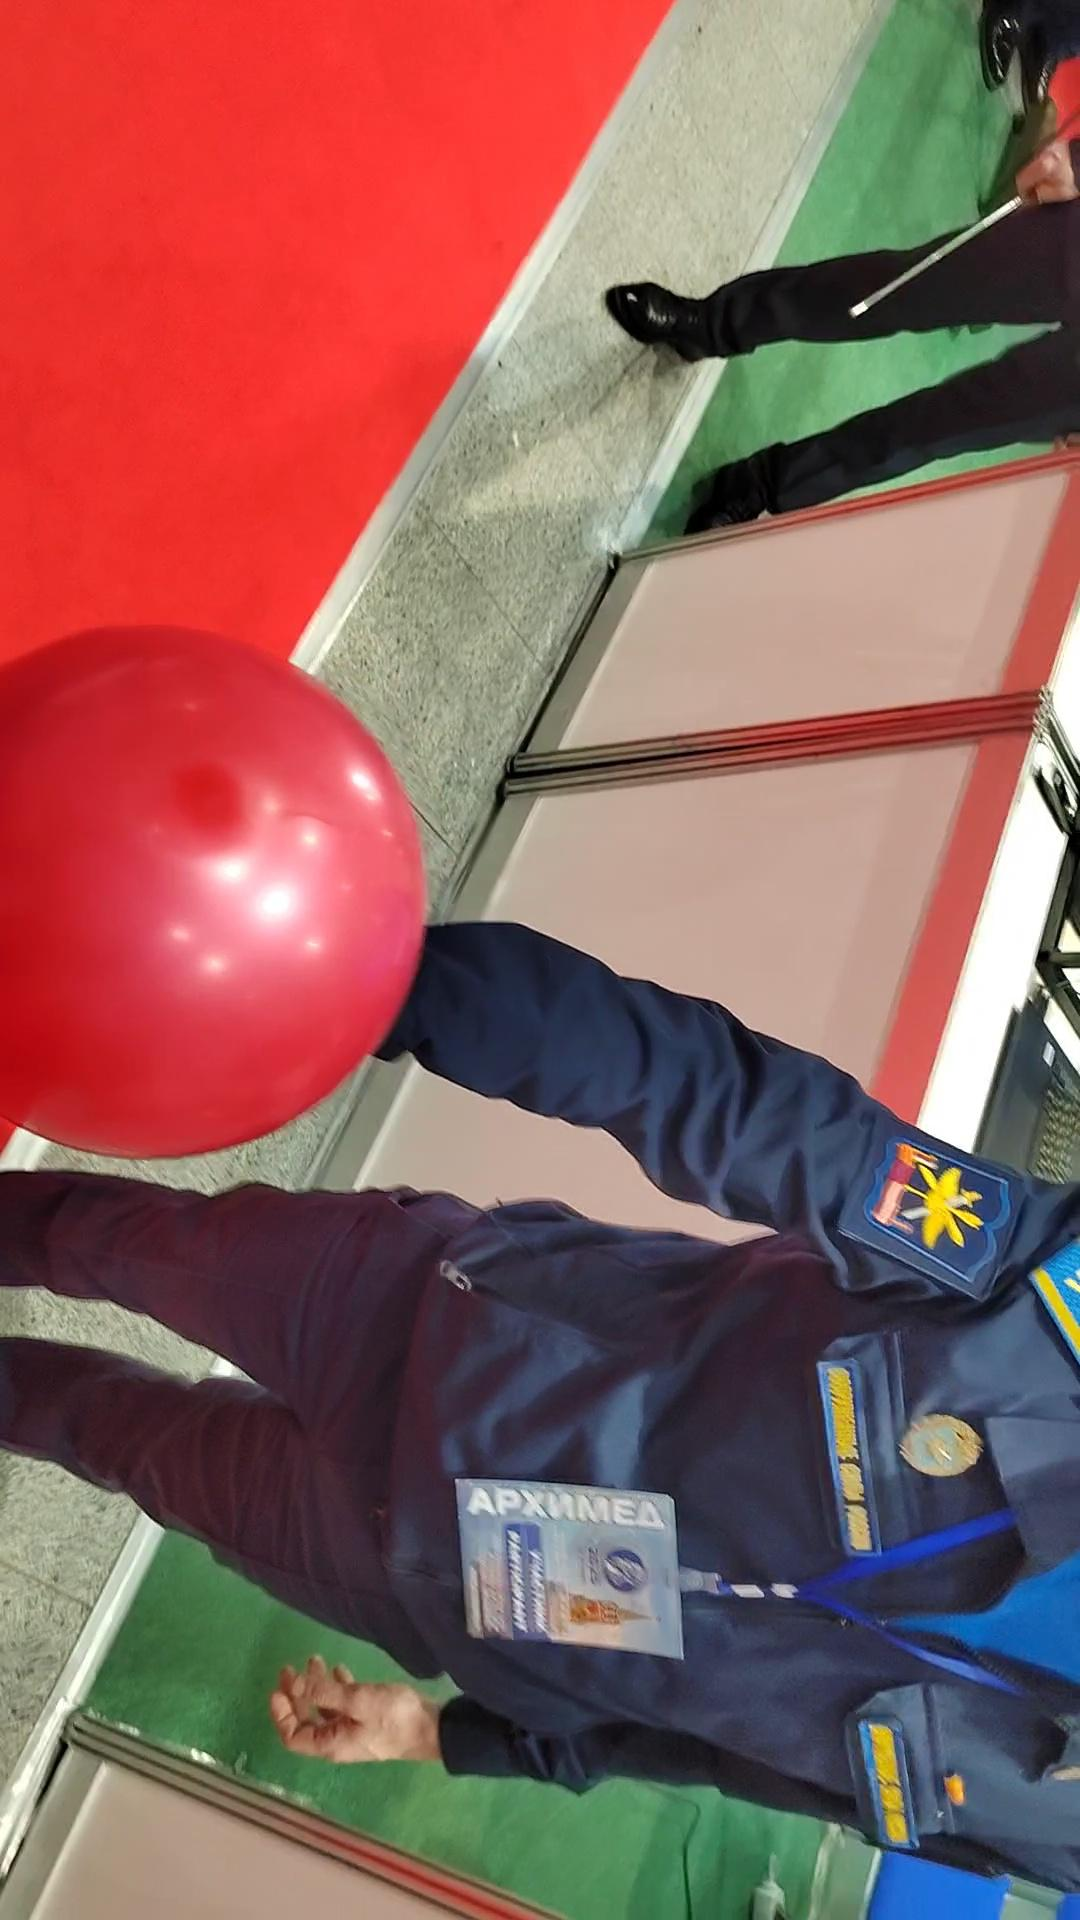red: (0, 609, 443, 1171)
